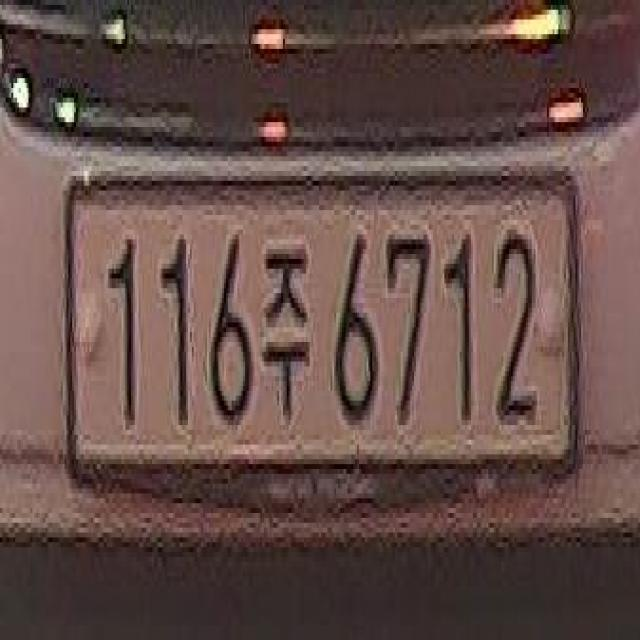illegal_plate: (68, 161, 580, 517)
